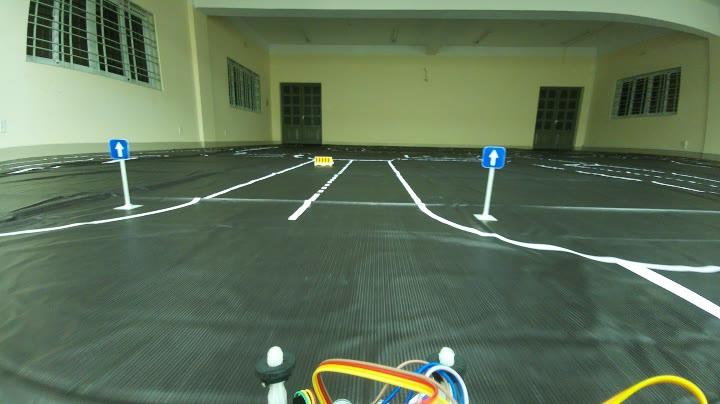onewayroad: (480, 142, 509, 168), (110, 138, 132, 162)
roadblock: (310, 152, 334, 169)
